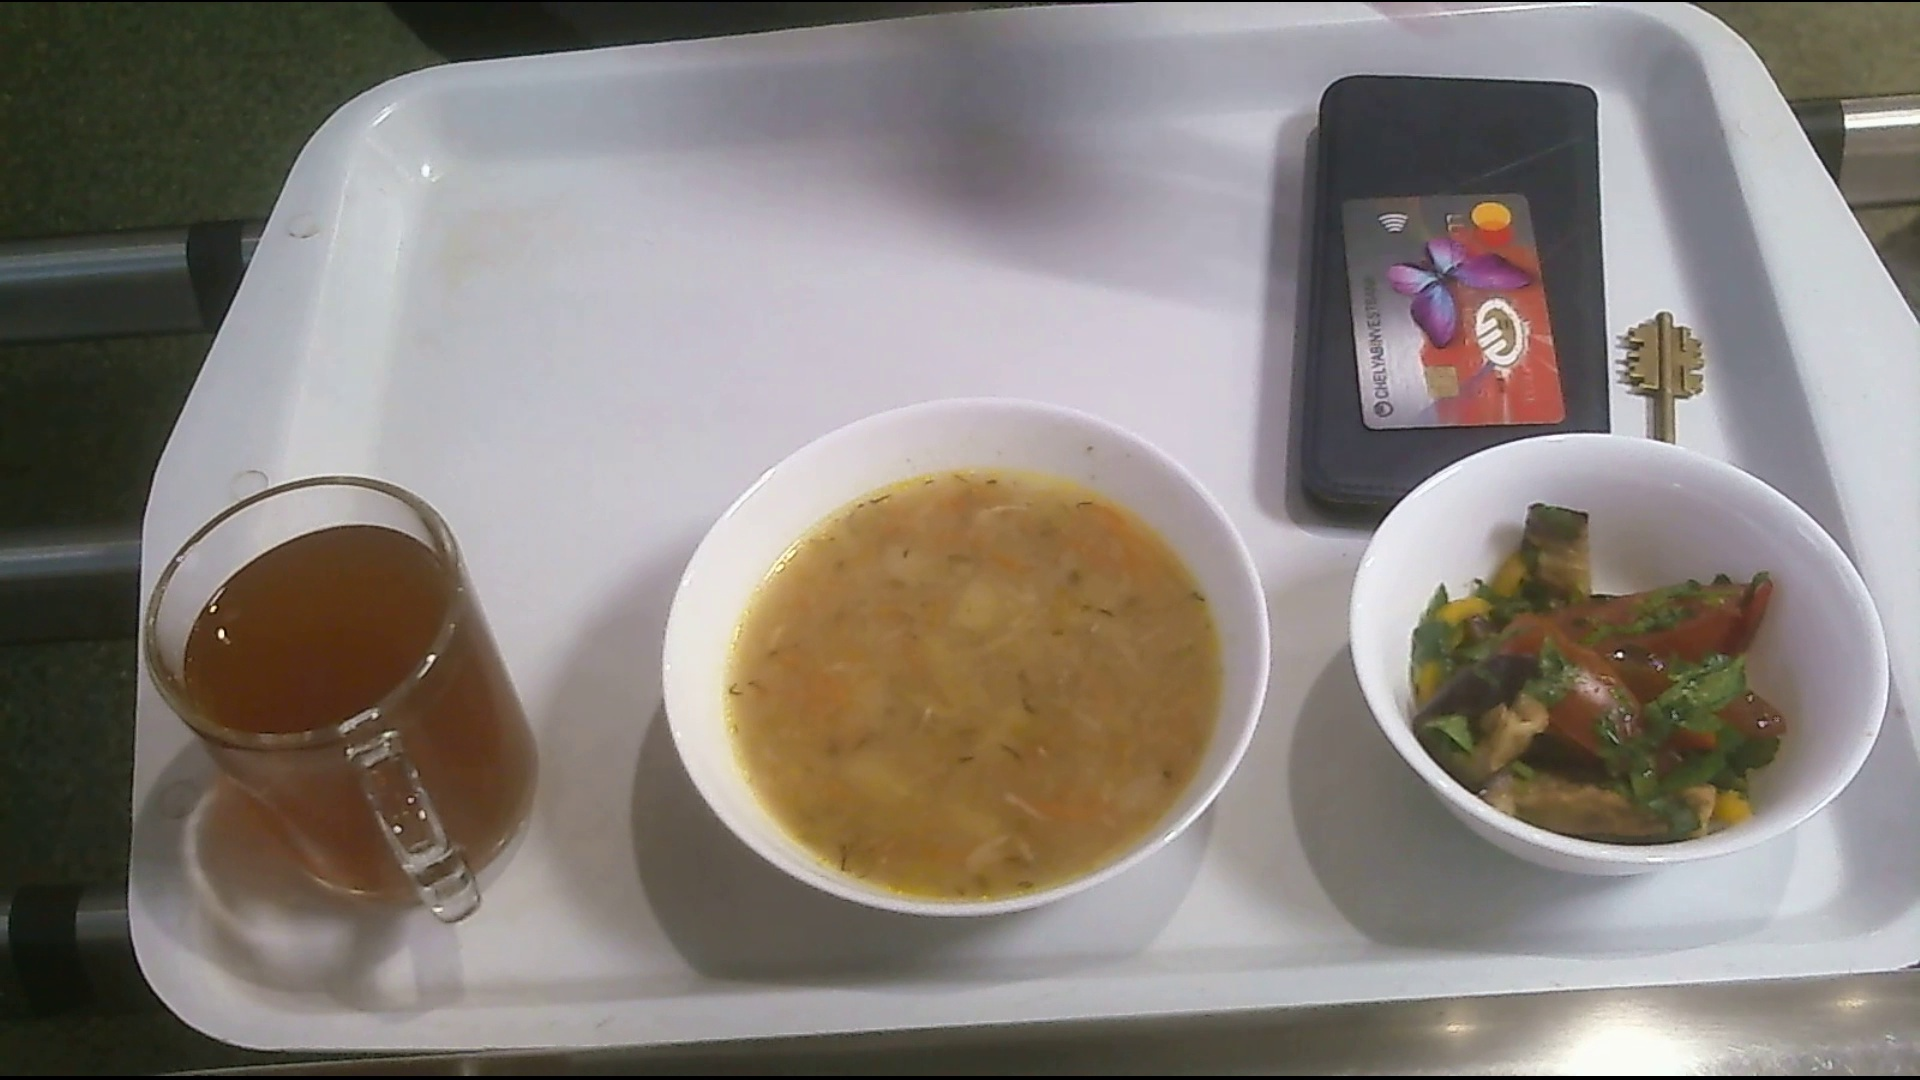bowl: (662, 415, 1273, 920), (1346, 433, 1898, 870)
drink: (138, 476, 549, 916)
other: (1312, 70, 1619, 517), (1627, 302, 1706, 458)
